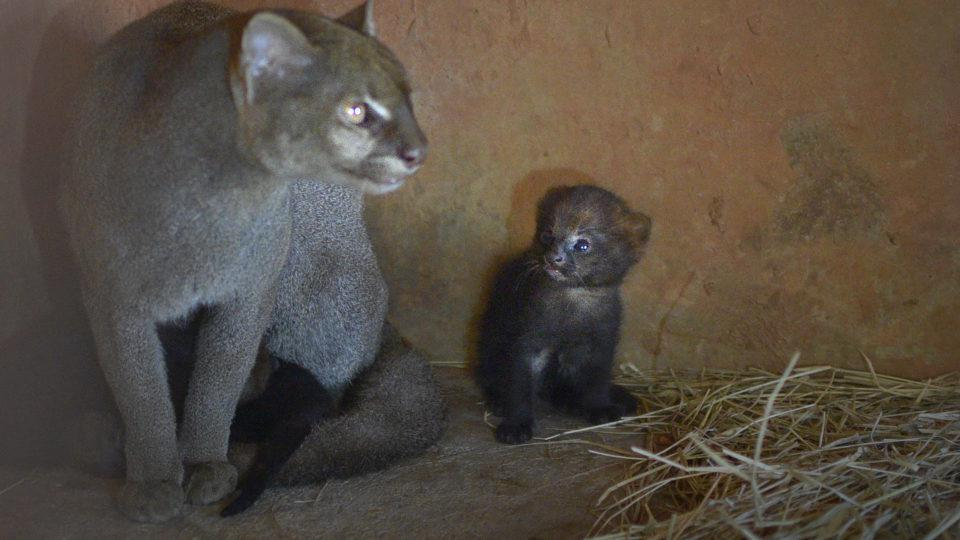Jaguarundi: (62, 6, 460, 526), (485, 163, 665, 445)
